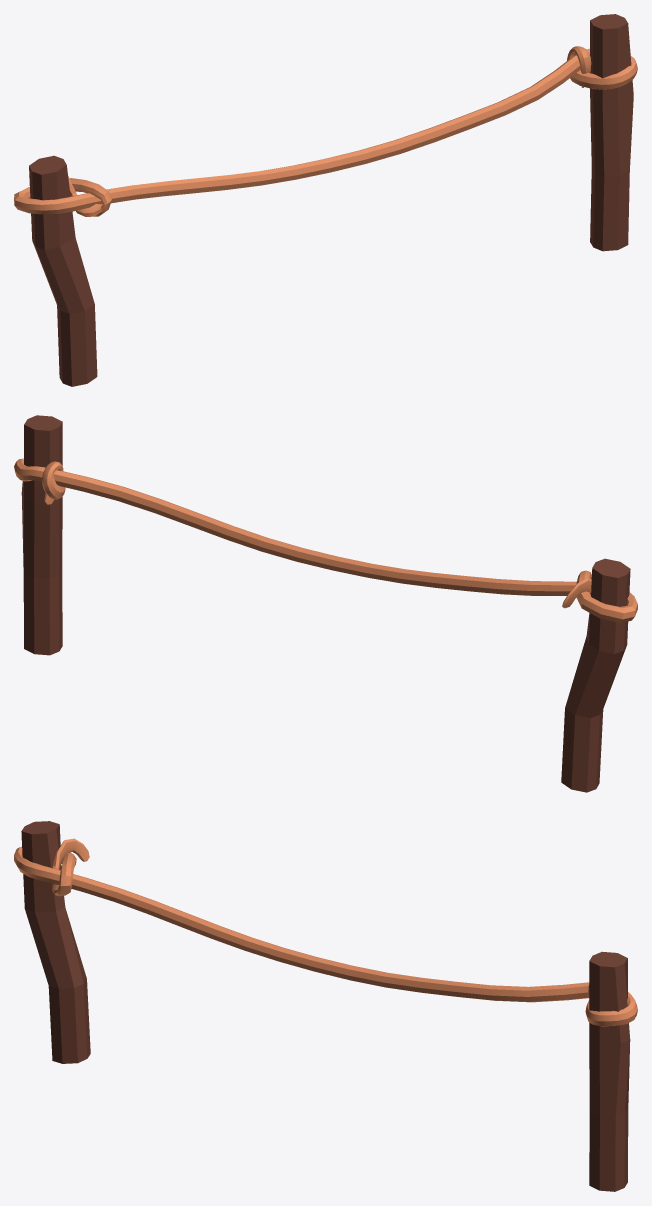
The model's file is Rope-1.glb.
The picture shows the model from 3 angles, top to bottom: view 1: azimuth 30°, elevation 25°; view 2: azimuth 150°, elevation 25°; view 3: azimuth 330°, elevation 25°; orthographic projection.
Visible parts, largest first — view 1: Rope-1; view 2: Rope-1; view 3: Rope-1.
Boxes of the visible parts, x1=… form: Rope-1: x1=14, y1=14, x2=637, y2=386; Rope-1: x1=14, y1=415, x2=637, y2=792; Rope-1: x1=14, y1=821, x2=637, y2=1191.
Size of what is drawn, in the model's own units: 1.49 by 0.5288 by 0.1604.
